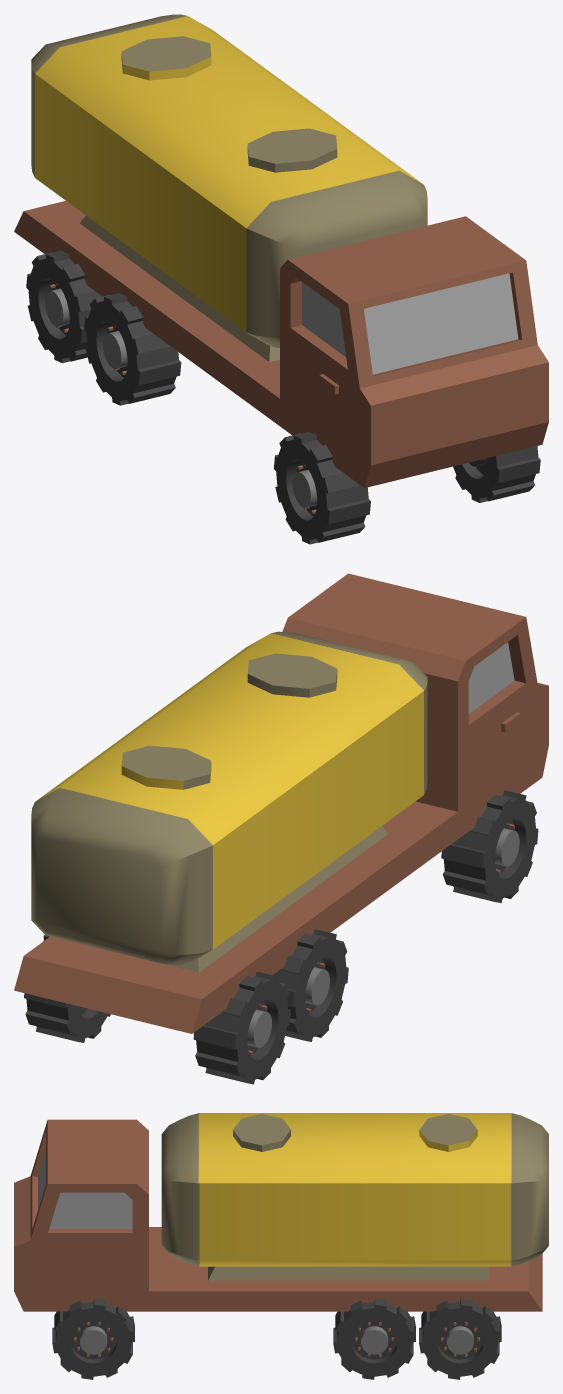
The model's file is Caminhao.fbx.
The picture shows the model from 3 angles, top to bottom: view 1: azimuth 30°, elevation 25°; view 2: azimuth 150°, elevation 25°; view 3: azimuth 270°, elevation 25°; orthographic projection. The views are drawn at different scales.
Visible parts, largest first — view 1: Caminhao.001; view 2: Caminhao.001; view 3: Caminhao.001.
Part boxes in pixels (left/top/right/bottom): Caminhao.001: left=14, top=14, right=548, bottom=544; Caminhao.001: left=14, top=573, right=548, bottom=1084; Caminhao.001: left=14, top=1113, right=548, bottom=1379.
Bounding box in the file's own units: 288 × 373 × 855.
Materials: 1 (1 with a texture image).
